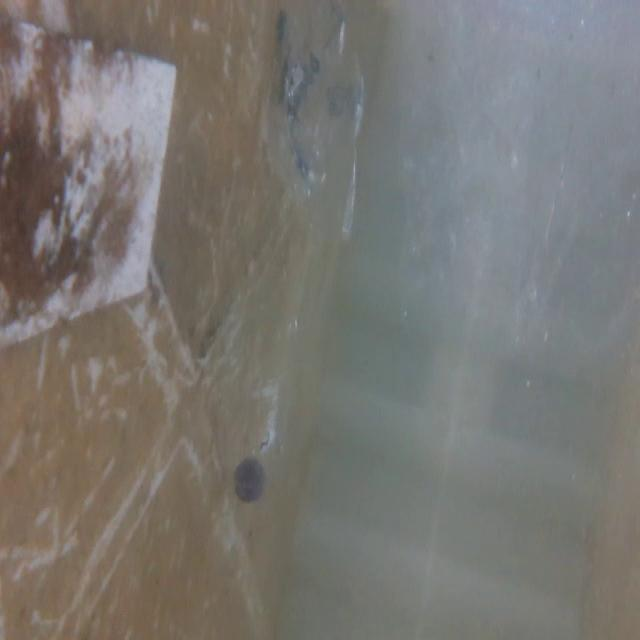plastic bags: (254, 5, 375, 248)
